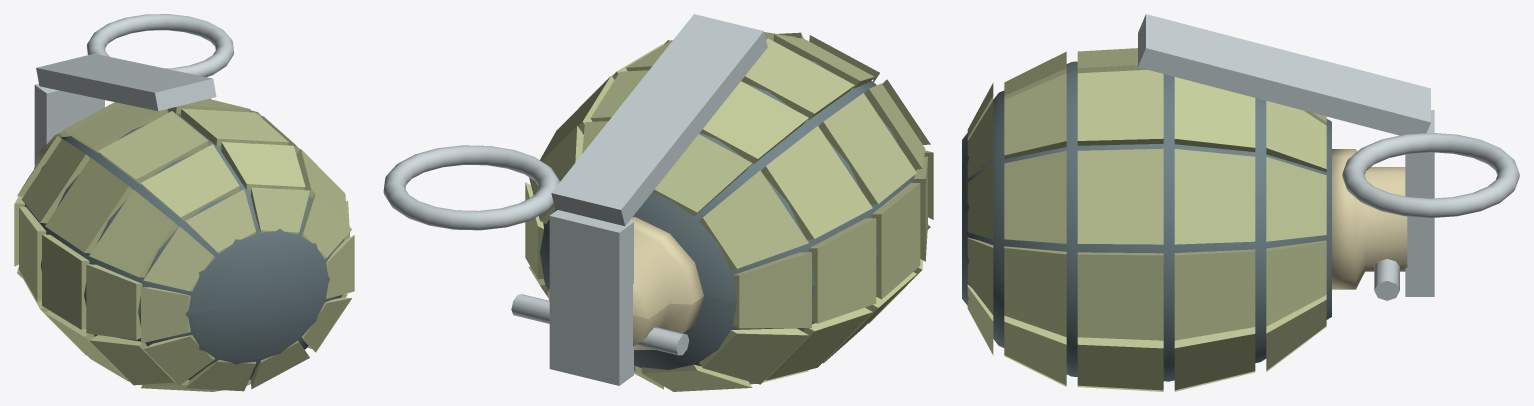
The model's file is grenade.glb.
The picture shows the model from 3 angles, left to right: view 1: azimuth 30°, elevation 25°; view 2: azimuth 150°, elevation 25°; view 3: azimuth 270°, elevation 25°; orthographic projection. The views are drawn at different scales.
Parts seen in each view (by area): view 1: static:grenade-olive, static:secondary-carbon, static:secondary-steel; view 2: static:grenade-olive, static:secondary-steel, static:secondary-carbon, static:grenade-brass; view 3: static:grenade-olive, static:secondary-steel, static:secondary-carbon, static:grenade-brass.
Part boxes in pixels (x1=…): static:grenade-olive: x1=14, y1=98, x2=354, y2=391; static:secondary-carbon: x1=24, y1=111, x2=344, y2=380; static:secondary-steel: x1=34, y1=14, x2=233, y2=165; static:grenade-olive: x1=525, y1=32, x2=933, y2=391; static:secondary-steel: x1=383, y1=14, x2=767, y2=385; static:secondary-carbon: x1=540, y1=57, x2=916, y2=369; static:grenade-brass: x1=547, y1=217, x2=703, y2=349; static:grenade-olive: x1=967, y1=48, x2=1326, y2=391; static:secondary-steel: x1=1138, y1=14, x2=1519, y2=300; static:secondary-carbon: x1=962, y1=61, x2=1331, y2=381; static:grenade-brass: x1=1332, y1=149, x2=1407, y2=289.
Bounding box in the file's own units: 0.2557 × 0.2364 × 0.3502.
